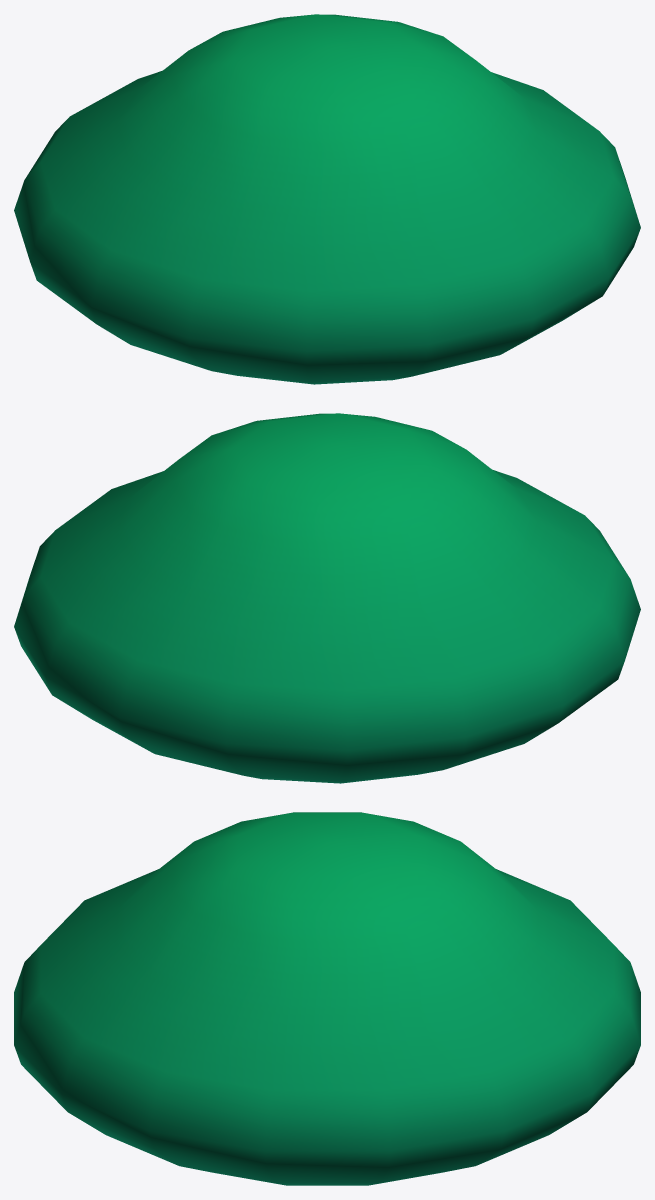
File: Bush_3_C_Color2.fbx
The picture shows the model from 3 angles, top to bottom: view 1: azimuth 30°, elevation 25°; view 2: azimuth 150°, elevation 25°; view 3: azimuth 270°, elevation 25°; orthographic projection.
Parts seen in each view (by area): view 1: Bush_3_C_Color2; view 2: Bush_3_C_Color2; view 3: Bush_3_C_Color2.
Boxes of the visible parts, x1,y1,x2,y2 form: Bush_3_C_Color2: (14,14,640,384); Bush_3_C_Color2: (14,413,640,783); Bush_3_C_Color2: (14,812,640,1185).
Size of the model in its own units: 2.49 by 1.15 by 2.49.
